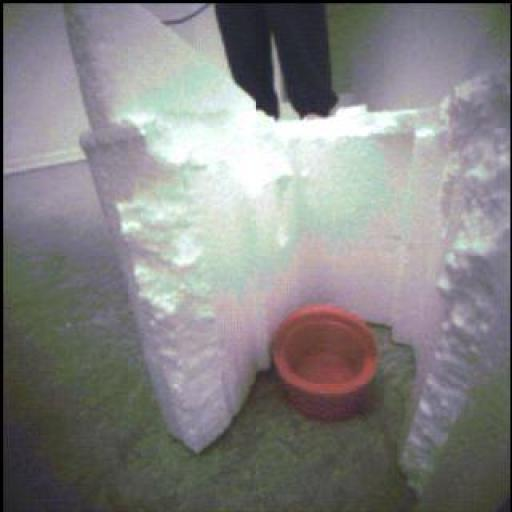Bucket: (273, 305, 379, 422)
